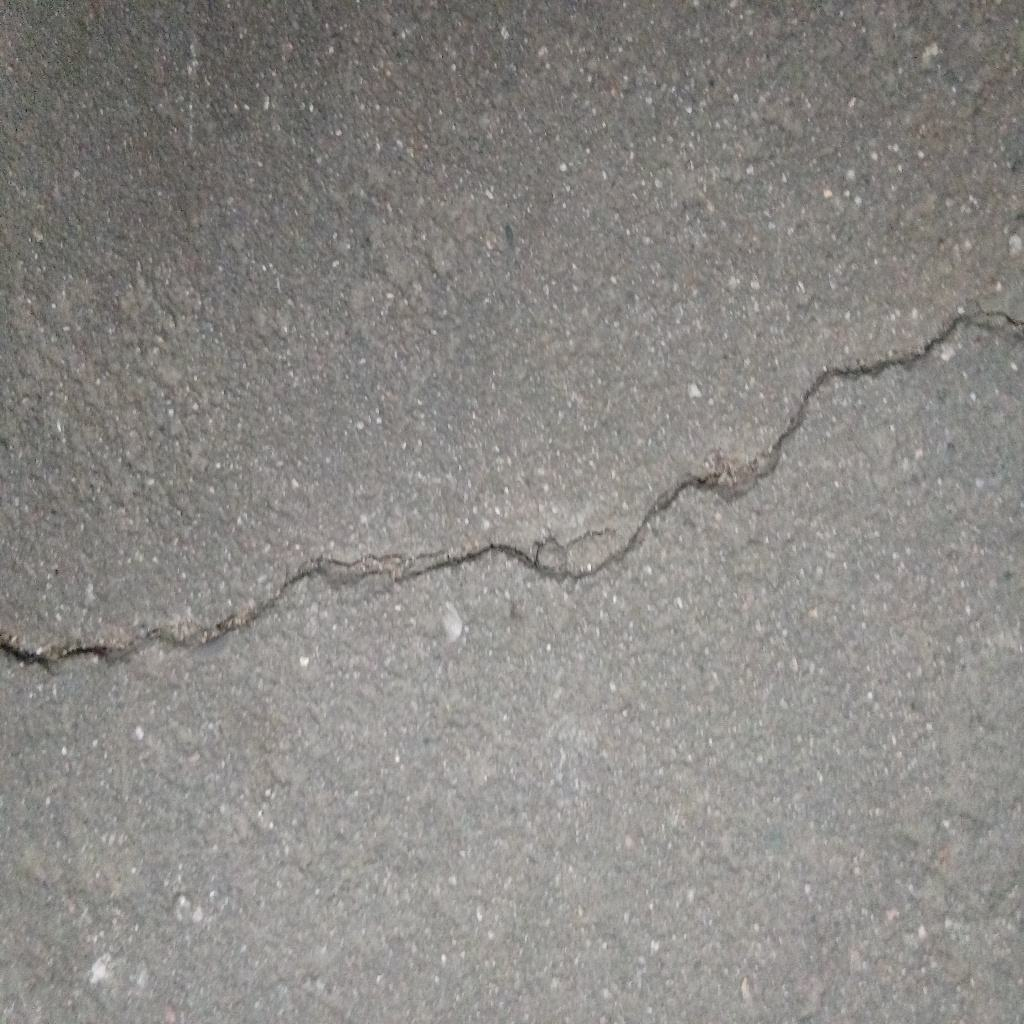Crack: (1, 307, 1024, 675)
